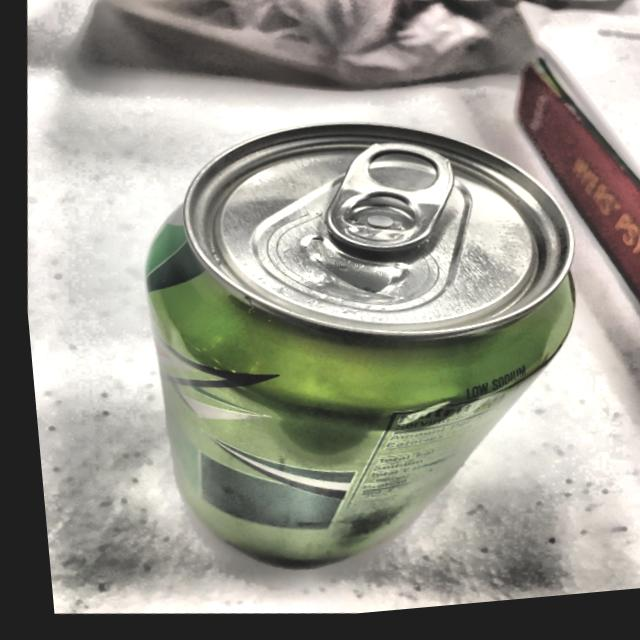Cans: (58, 74, 621, 637)
